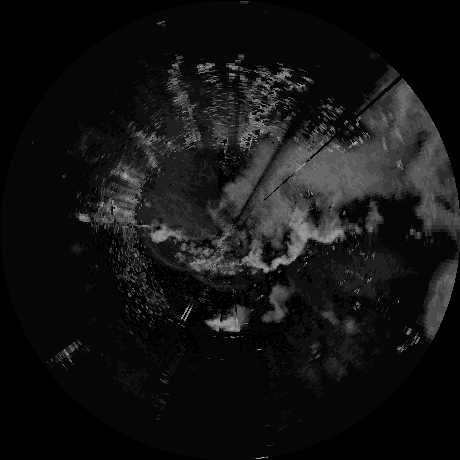frontgust: (143, 239, 192, 272), (198, 275, 246, 289)
